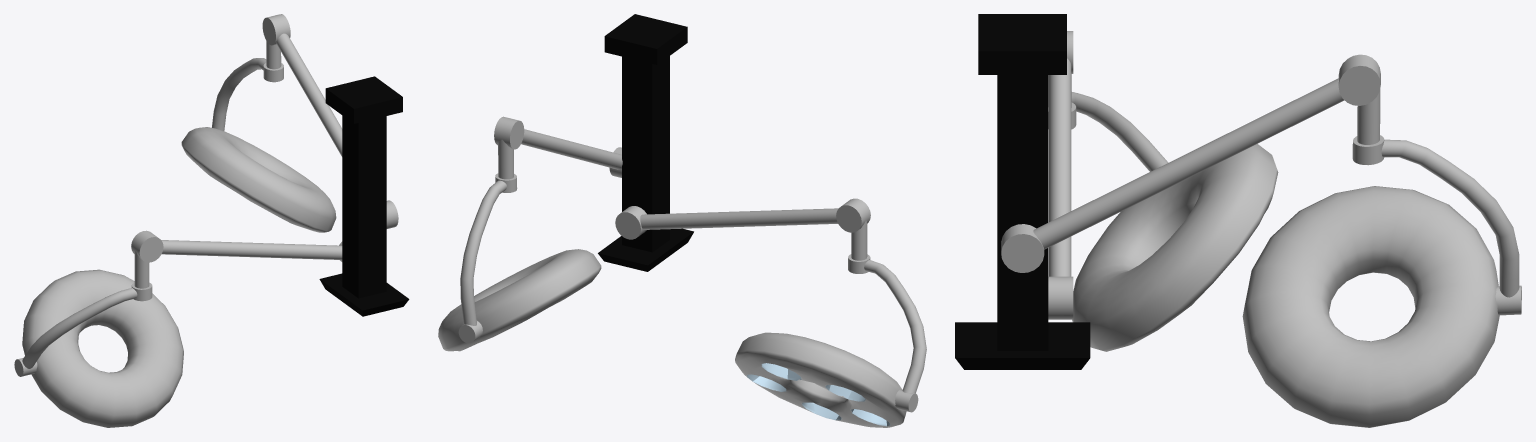
Rendered from Light_Fixture_Model.fbx.
3 renders of one model, left to right at view 1: azimuth 30°, elevation 25°; view 2: azimuth 150°, elevation 25°; view 3: azimuth 270°, elevation 25°, orthographic. The views are drawn at different scales.
Parts seen in each view (by area): view 1: Lights; view 2: Lights; view 3: Lights.
Boxes of the visible parts, x1,y1,x2,y2 form: Lights: [14, 14, 409, 427]; Lights: [438, 14, 926, 427]; Lights: [955, 14, 1521, 427].
Bounding box in the file's own units: 1.53 × 1.18 × 1.3.
1 material, 1 textured.
